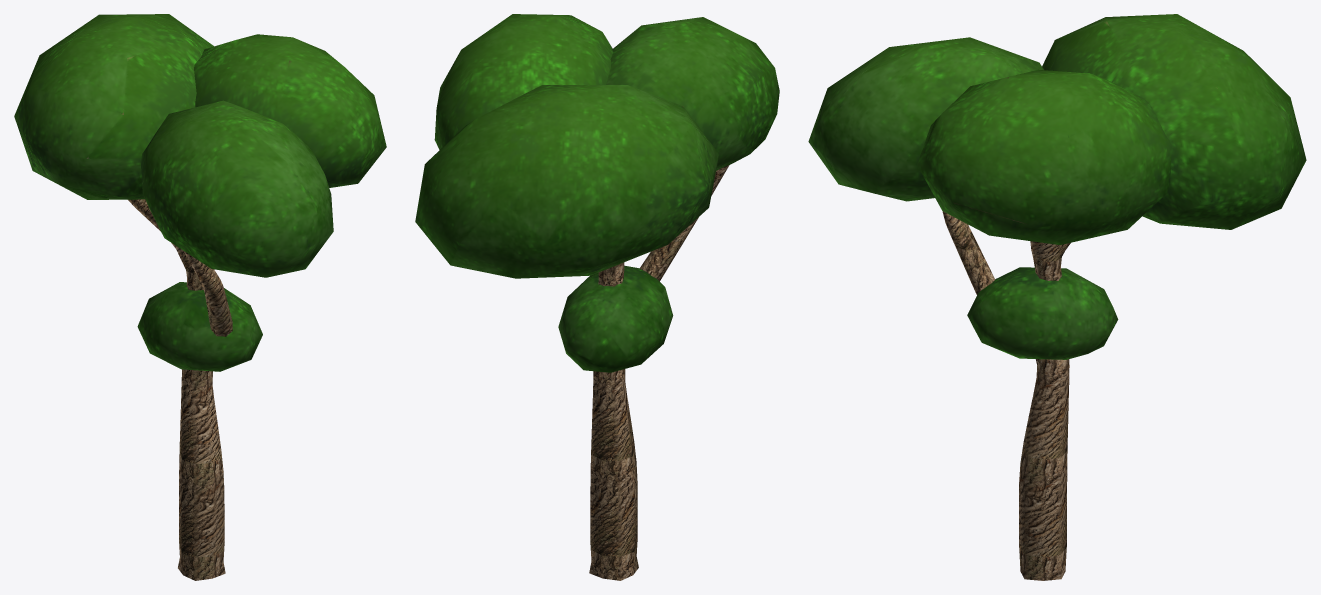
The model's file is Boom1.fbx.
3 renders of one model, left to right at view 1: azimuth 30°, elevation 25°; view 2: azimuth 150°, elevation 25°; view 3: azimuth 270°, elevation 25°, orthographic. The views are drawn at different scales.
Visible parts, largest first — view 1: Icosphere; view 2: Icosphere; view 3: Icosphere.
Boxes of the visible parts, left/top/right/bottom form: Icosphere: left=14, top=14, right=386, bottom=580; Icosphere: left=415, top=14, right=779, bottom=580; Icosphere: left=808, top=14, right=1306, bottom=580.
Bounding box in the file's own units: 803 × 1356 × 1147.
